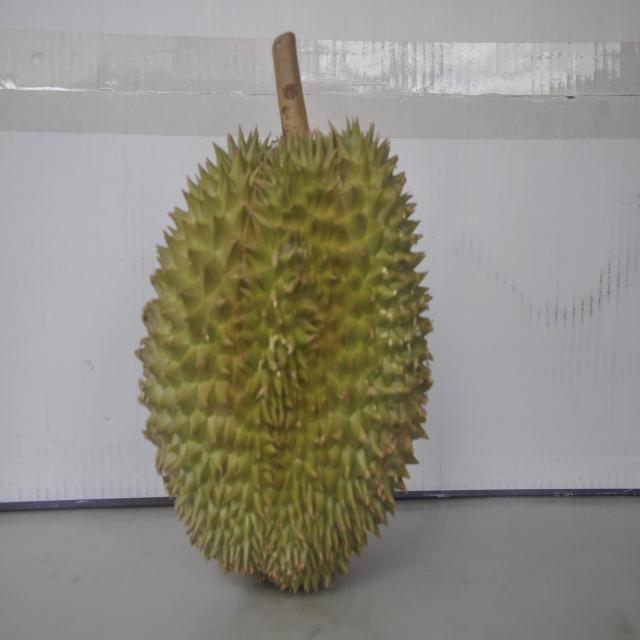mature: (136, 107, 426, 594)
